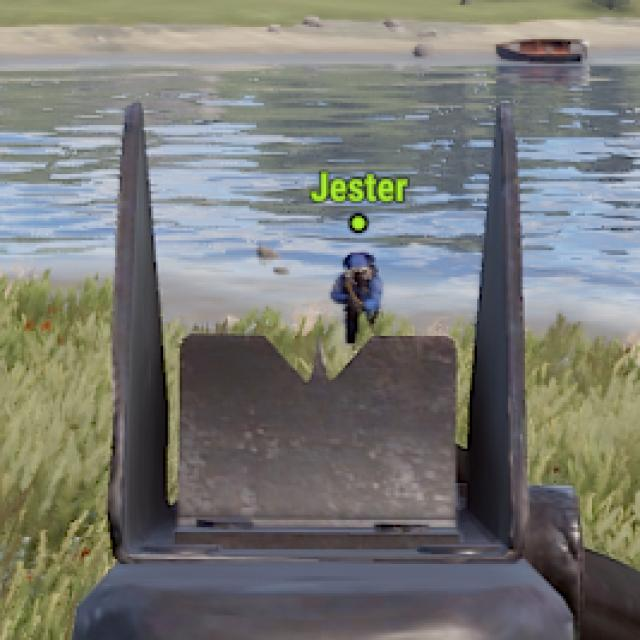Player: (328, 251, 384, 318)
